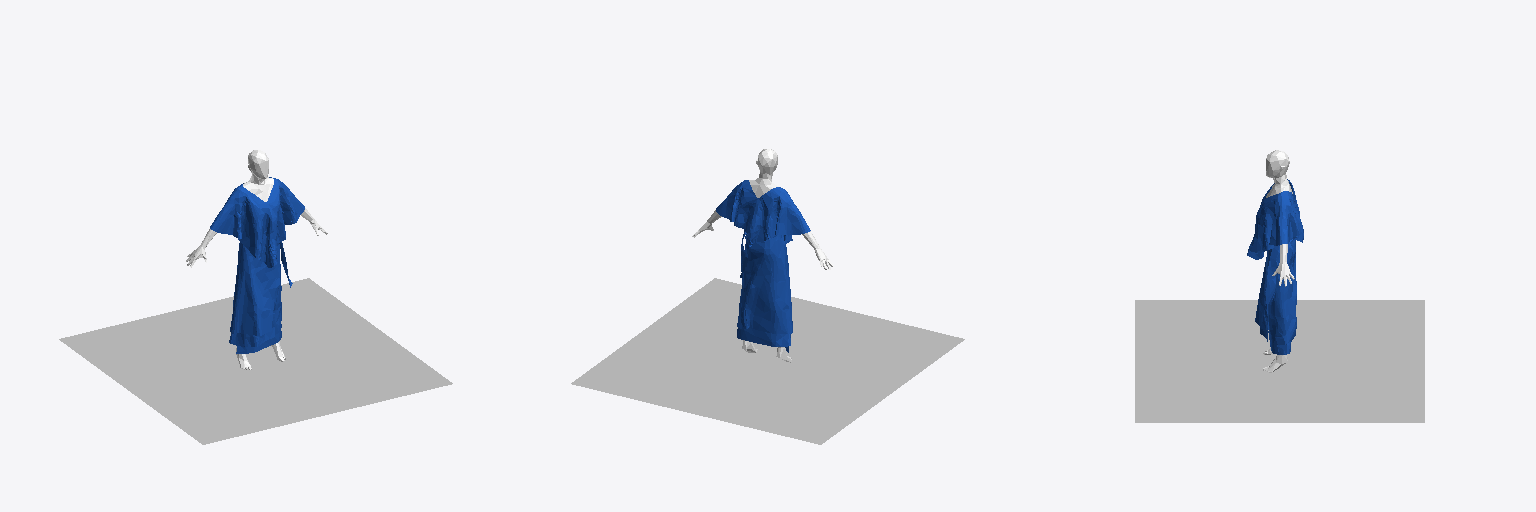
The model's file is wave2.obj.
The picture shows the model from 3 angles: view 1: azimuth 30°, elevation 25°; view 2: azimuth 150°, elevation 25°; view 3: azimuth 270°, elevation 25°; orthographic projection.
Parts seen in each view (by area): view 1: Plane, TrajeTipico, Maniqui; view 2: Plane, TrajeTipico, Maniqui; view 3: Plane, TrajeTipico, Maniqui.
Boxes of the visible parts, x1,y1,x2,y2 form: Plane: [59, 278, 452, 444]; TrajeTipico: [210, 177, 304, 353]; Maniqui: [186, 150, 327, 369]; Plane: [571, 278, 964, 444]; TrajeTipico: [716, 180, 810, 352]; Maniqui: [692, 149, 833, 362]; Plane: [1135, 300, 1424, 422]; TrajeTipico: [1247, 179, 1303, 354]; Maniqui: [1263, 150, 1294, 372].
Size of the model in its own units: 235 by 190 by 235.